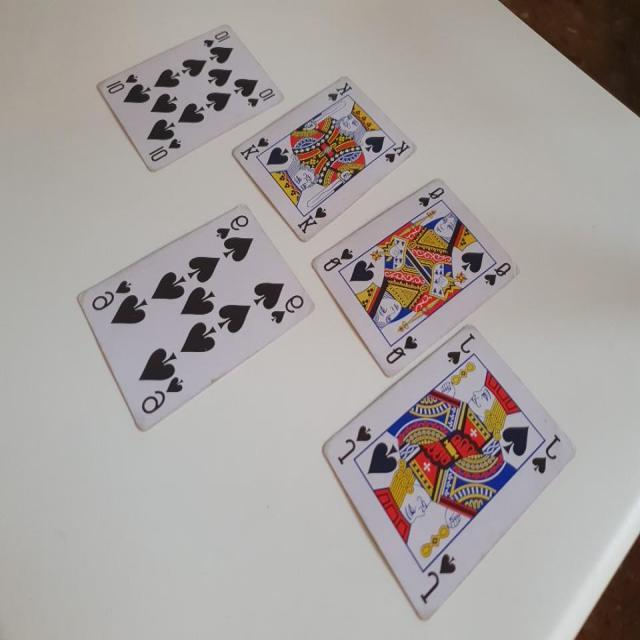10 of spades: (91, 17, 287, 183)
9 of spades: (74, 201, 326, 446)
jack of spades: (315, 322, 583, 628)
king of spades: (226, 71, 419, 240)
queen of spades: (310, 174, 521, 387)
